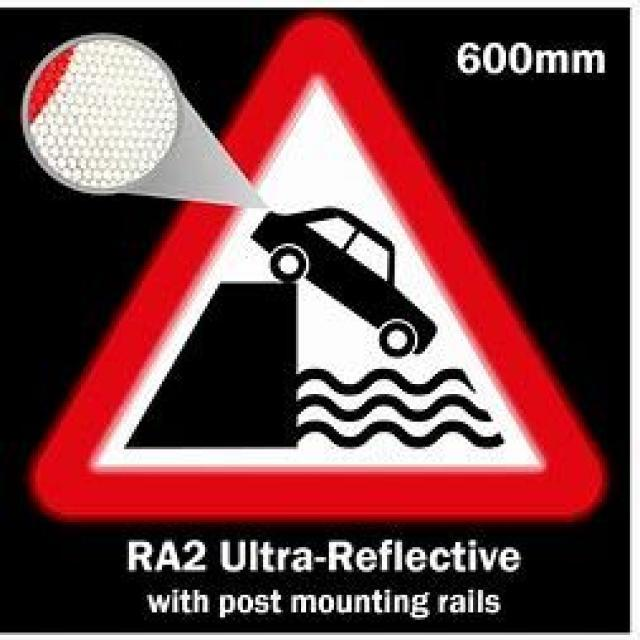quay side or river bank: (138, 115, 496, 494)
